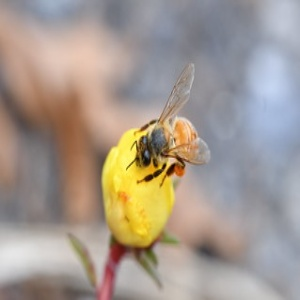bee: (131, 115, 210, 190)
